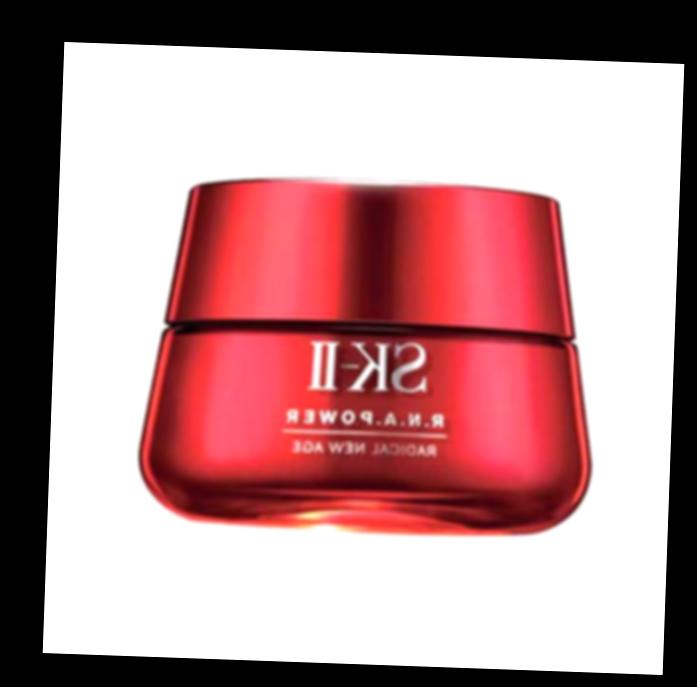cosmetic: (149, 175, 588, 528)
